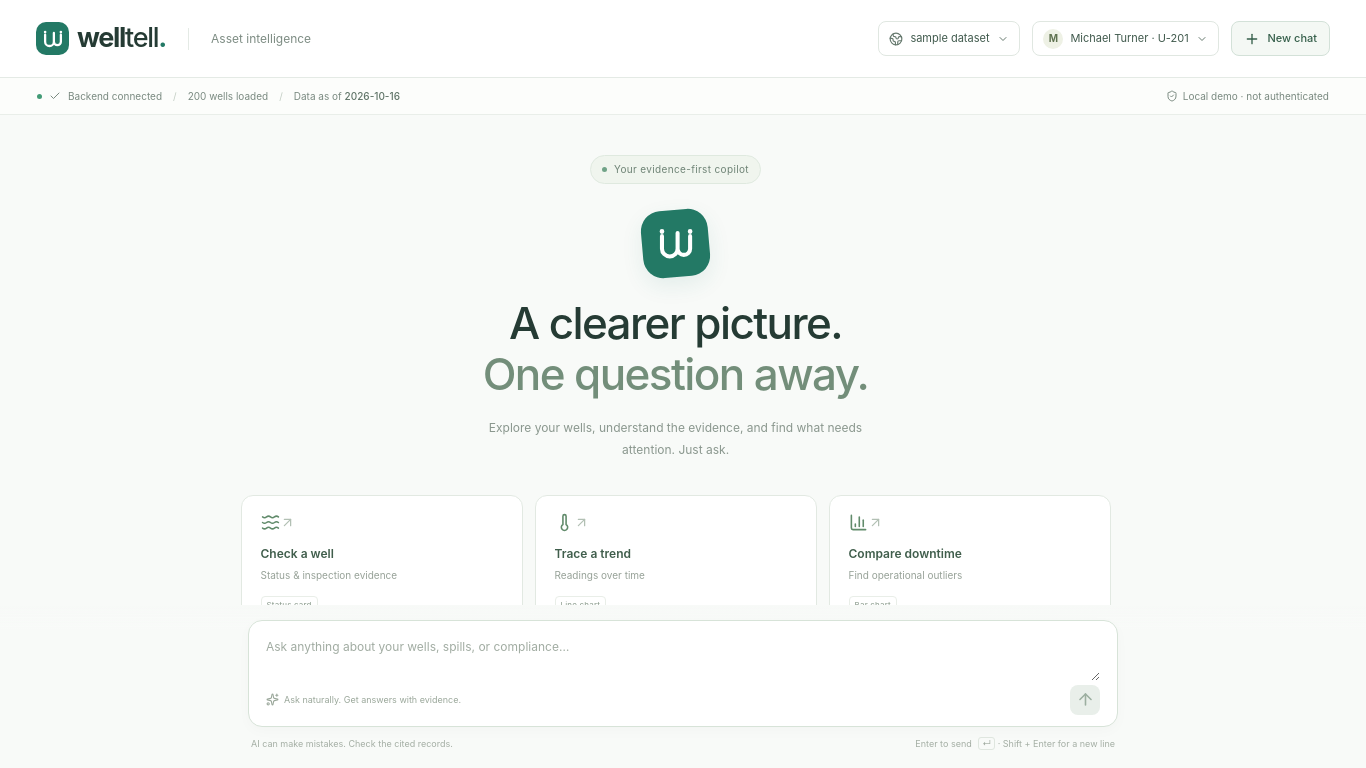
Scenario: keeps answers and exact citation chips when a visual is invalid, and disables raw HTML
This screenshot has width=1366, height=768.
In the text box named "Ask about your assets": (683, 658) [266,636,1100,680], type "Show malformed visual"
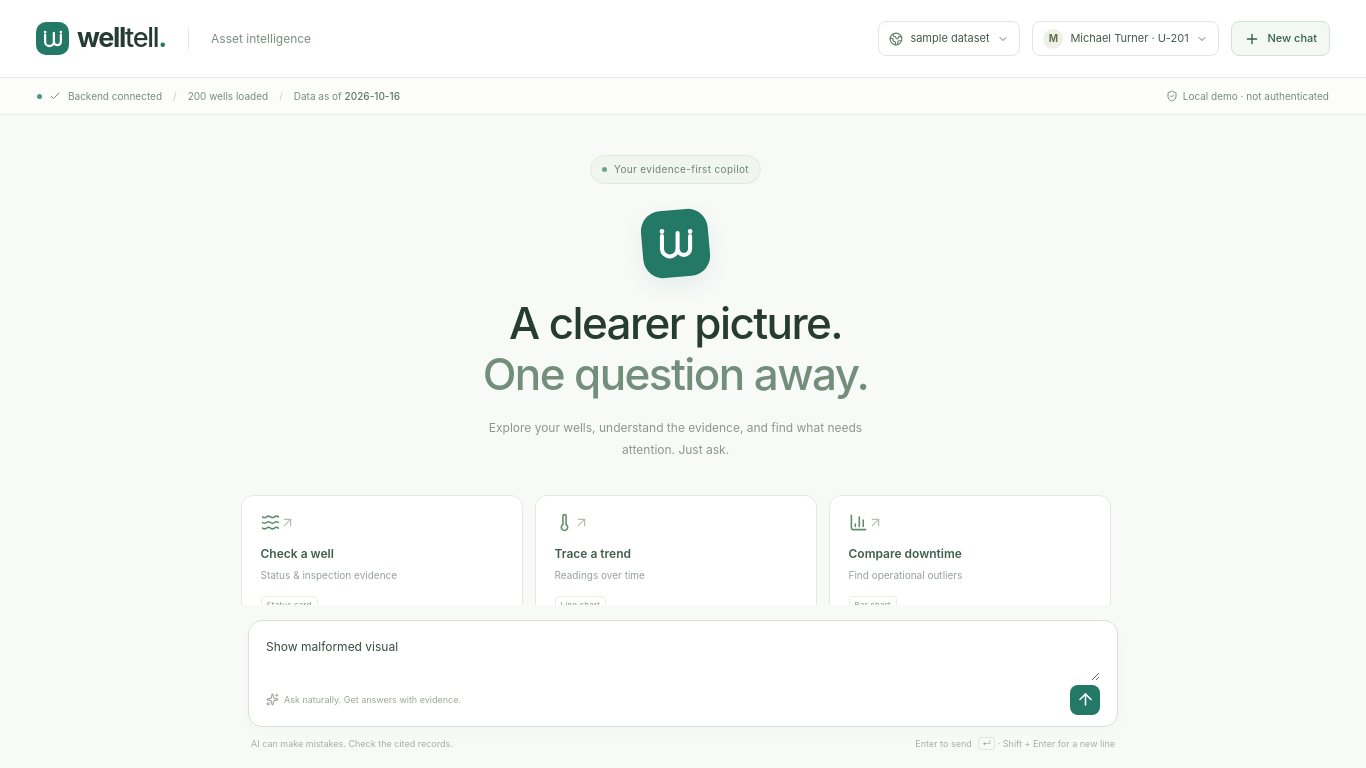
Click the button named "Send question": (1085, 700) [1070,684,1100,714]
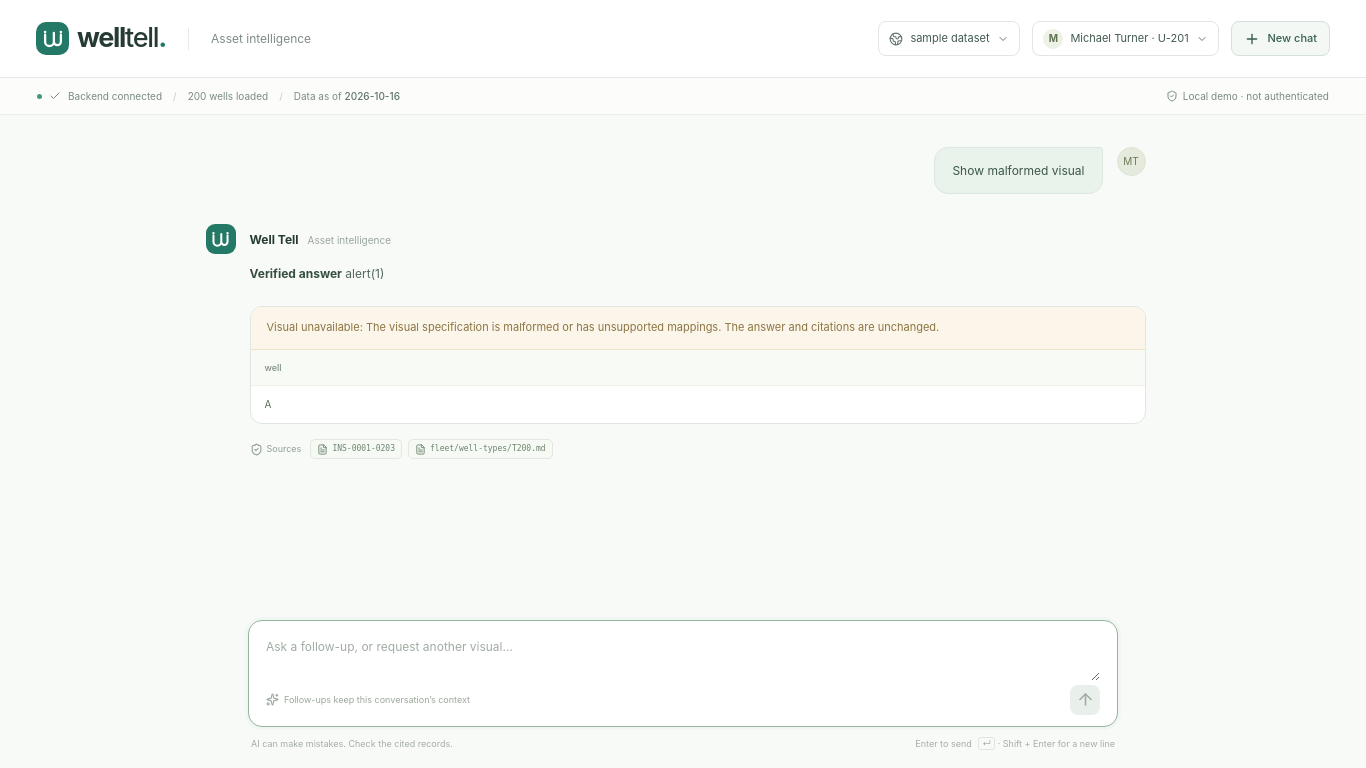
Expected: the text "Verified answer" is shown, [250,266,342,281]
Expected: the text "INS-0001-0203" is shown, [310,439,402,459]
Expected: the text "fleet/well-types/T200.md" is shown, [408,439,553,459]
